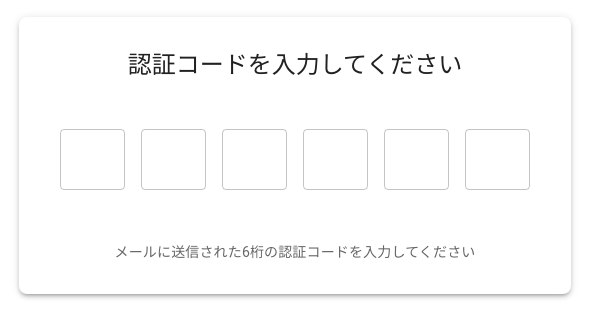
Test: ConfirmAccountFormコンポーネントのテスト › コピーペーストした値が適切に処理される
最初のフィールドに複数の数字を一度に入力（コピーペーストをシミュレート）
In the 1st field: (82, 160) [60, 129, 105, 190], type "123456"
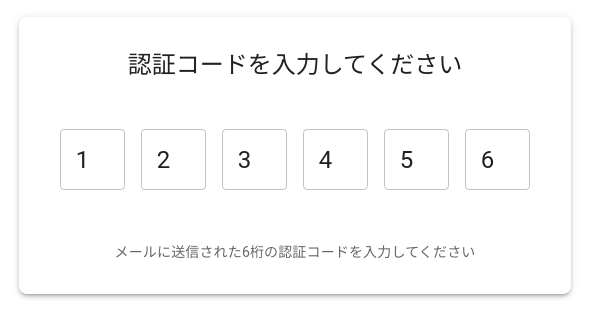
Now the 1st field holds "1", box [60, 129, 105, 190]
Now the 2nd field holds "2", box [141, 129, 186, 190]
Now the 3rd field holds "3", box [222, 129, 267, 190]
